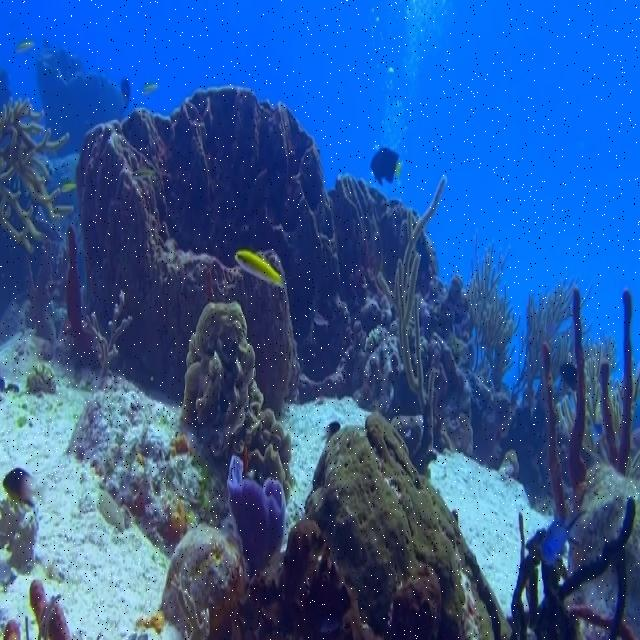fish: (542, 510, 584, 566), (236, 251, 285, 289), (2, 469, 38, 505)
reefs: (77, 84, 639, 513), (340, 173, 446, 470), (178, 304, 295, 526), (0, 97, 75, 251), (227, 458, 286, 580)
sea-floor: (234, 415, 513, 639)
